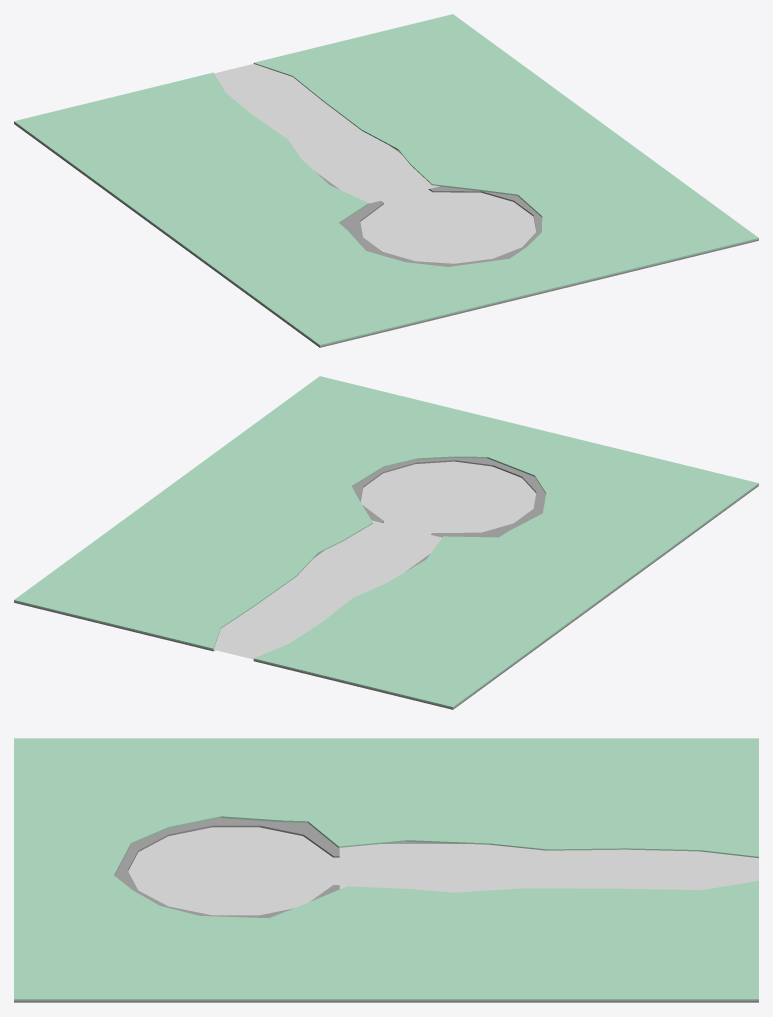
The model's file is floor.fbx.
3 views of the same model, one above another, from view 1: azimuth 30°, elevation 25°; view 2: azimuth 150°, elevation 25°; view 3: azimuth 270°, elevation 25° (orthographic). The views are drawn at different scales.
Visible parts, largest first — view 1: floor; view 2: floor; view 3: floor.
Part boxes in pixels (<box>): floor: <box>14,14,758,347</box>; floor: <box>14,376,758,709</box>; floor: <box>14,738,758,1002</box>.
Bounding box in the file's own units: 3289 × 19.95 × 3968.
